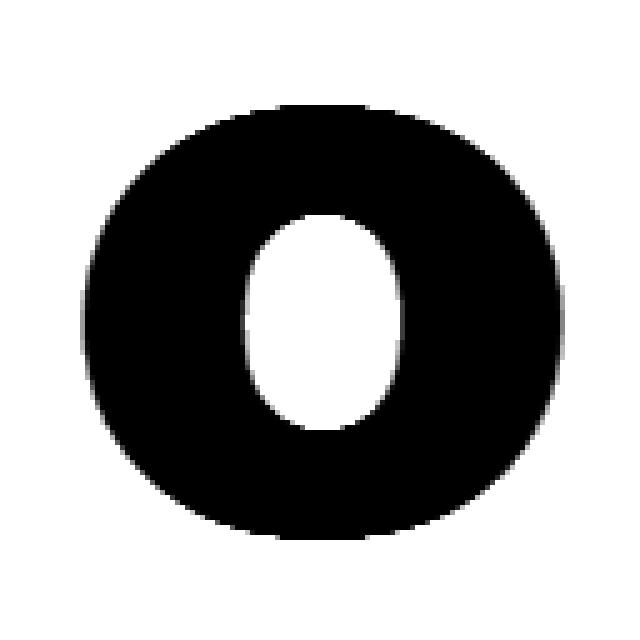O: (75, 95, 565, 540)
